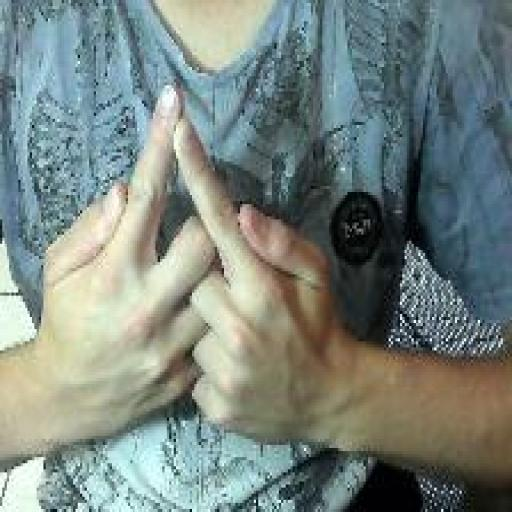Uma -horse-: (36, 79, 337, 448)
